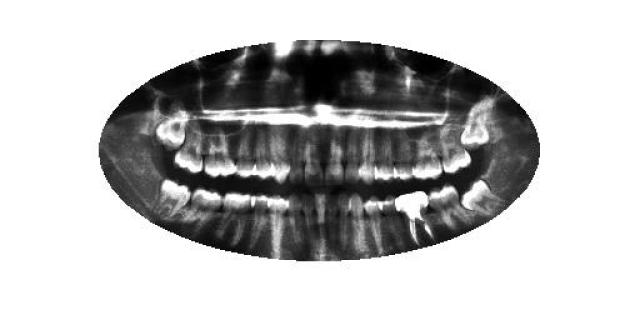Implant: (394, 190, 436, 245)
Restorations: (458, 178, 508, 216), (152, 106, 190, 152), (460, 106, 491, 152)
